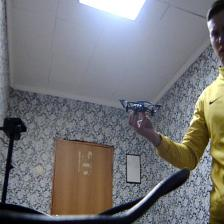drone: (118, 90, 162, 121)
